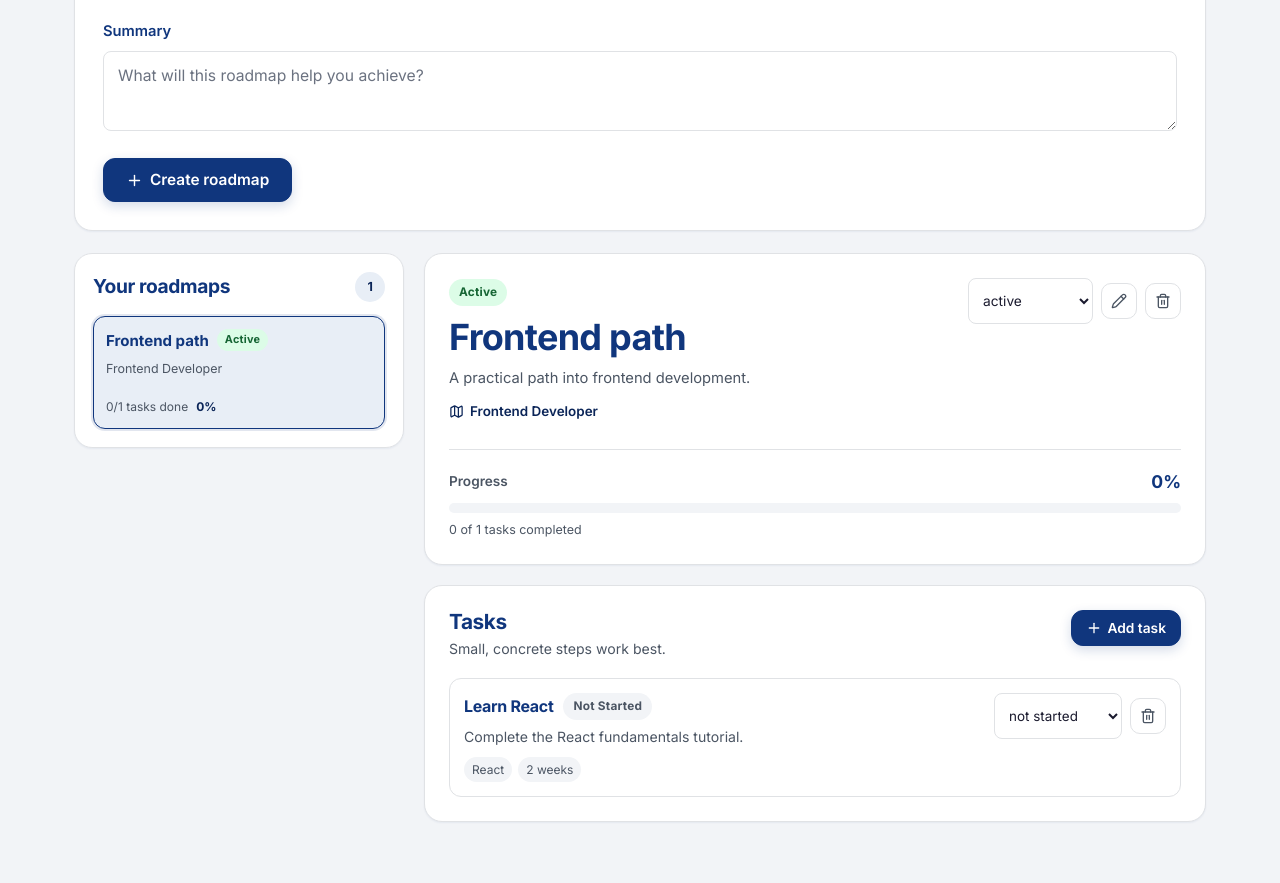
Test case: updates a task status
This screenshot has width=1280, height=883.
(page scrolled)
Step 1. Select "in progress" in the dropdown named "status for learn react" → (1058, 716), box [994, 693, 1122, 739]
(page scrolled)
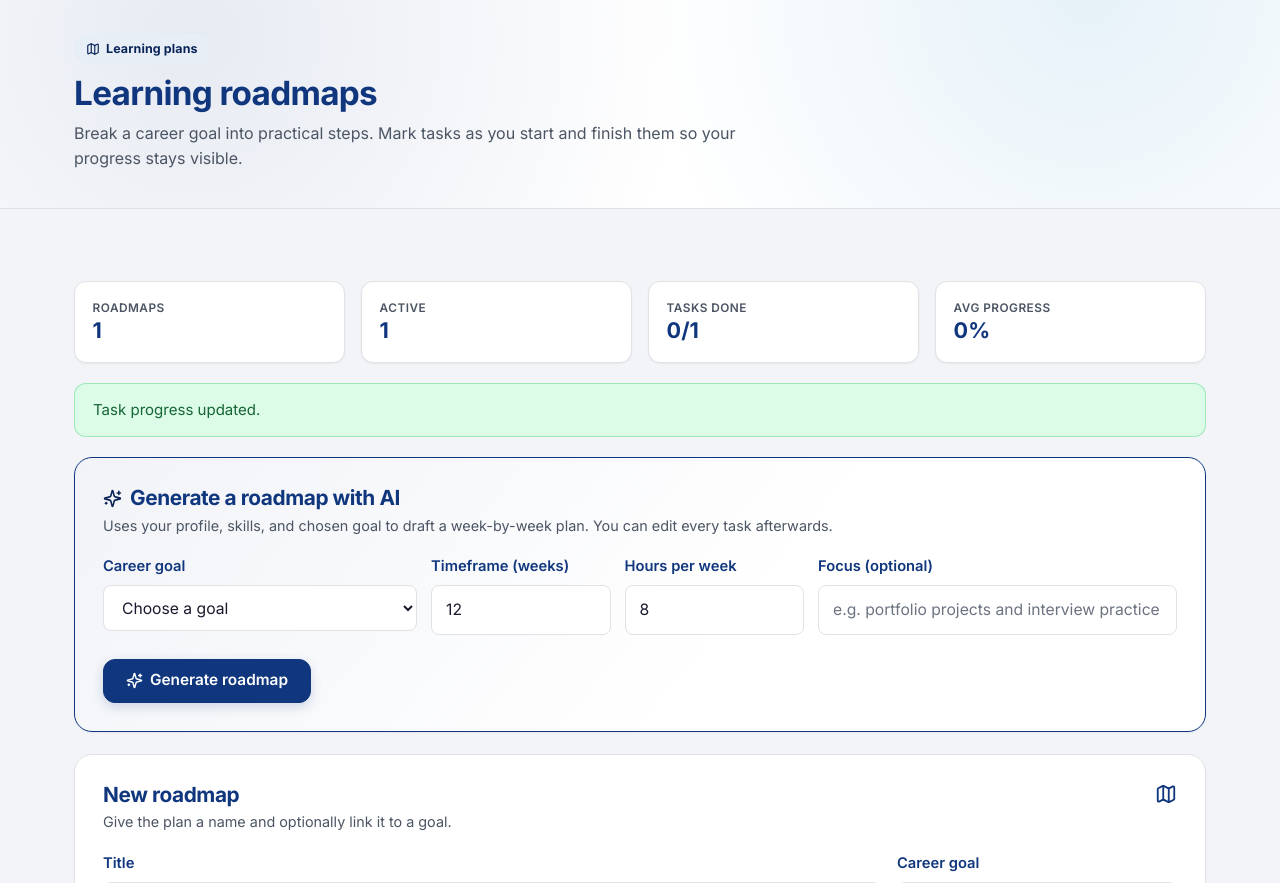
Check: the text "Task progress updated." is shown, box [74, 383, 1206, 437]
